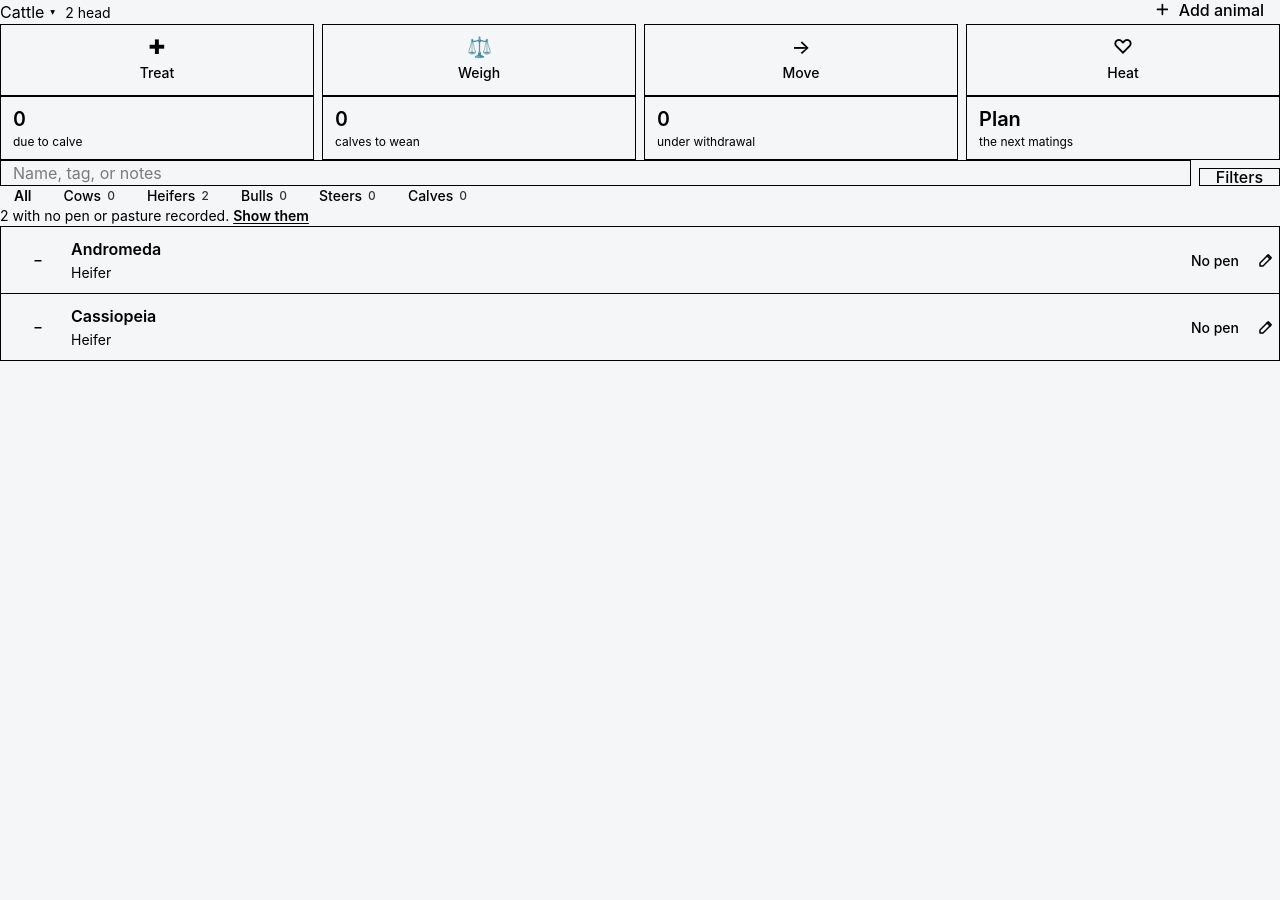
Test case: the breed filter › keeps saying what is on once the filters are closed
Click the button "Filters": (1239, 177) 1199,168 -> 1279,186
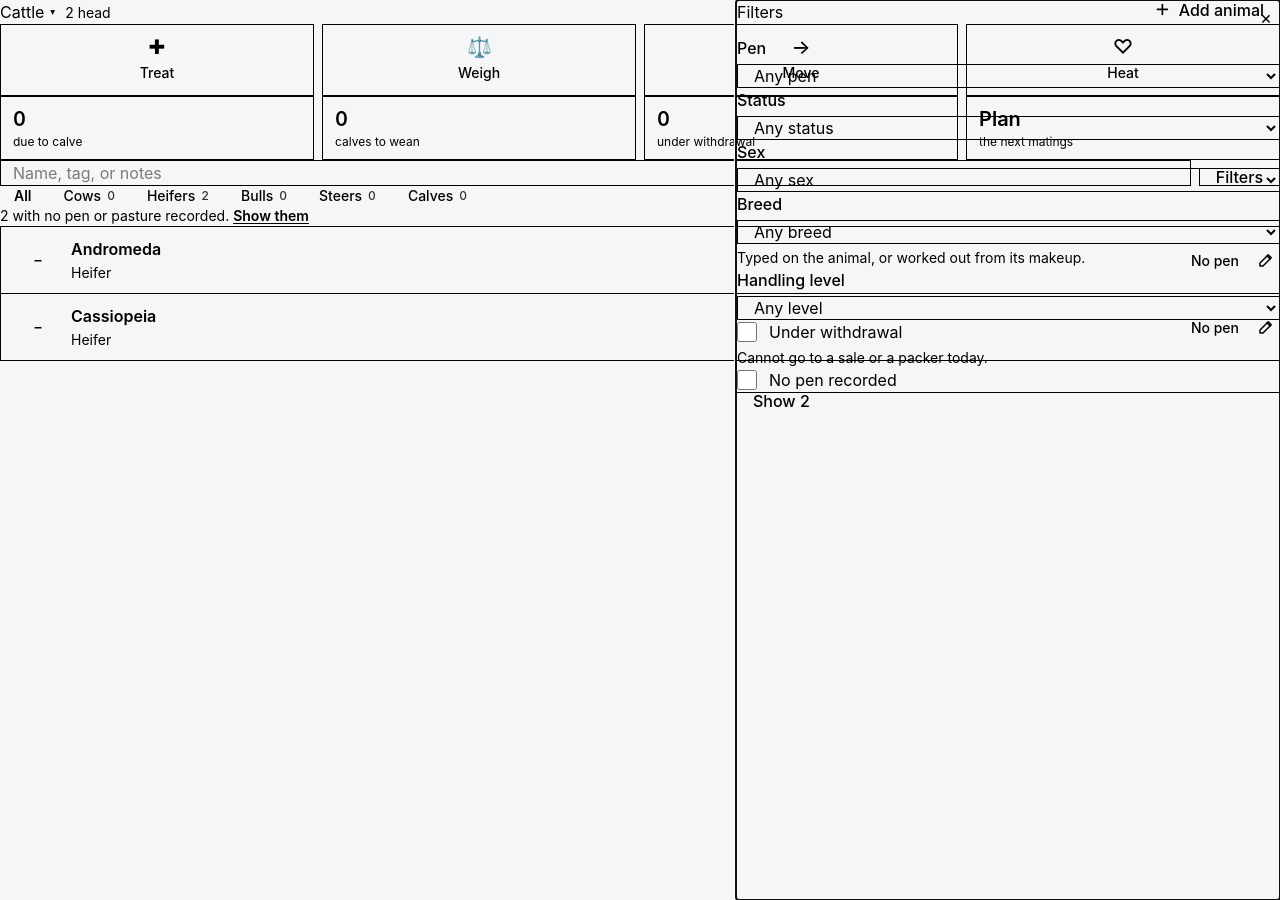
Select "Maine-Anjou" in the dropdown labelled "Breed": (1008, 232) 737,220 -> 1279,244
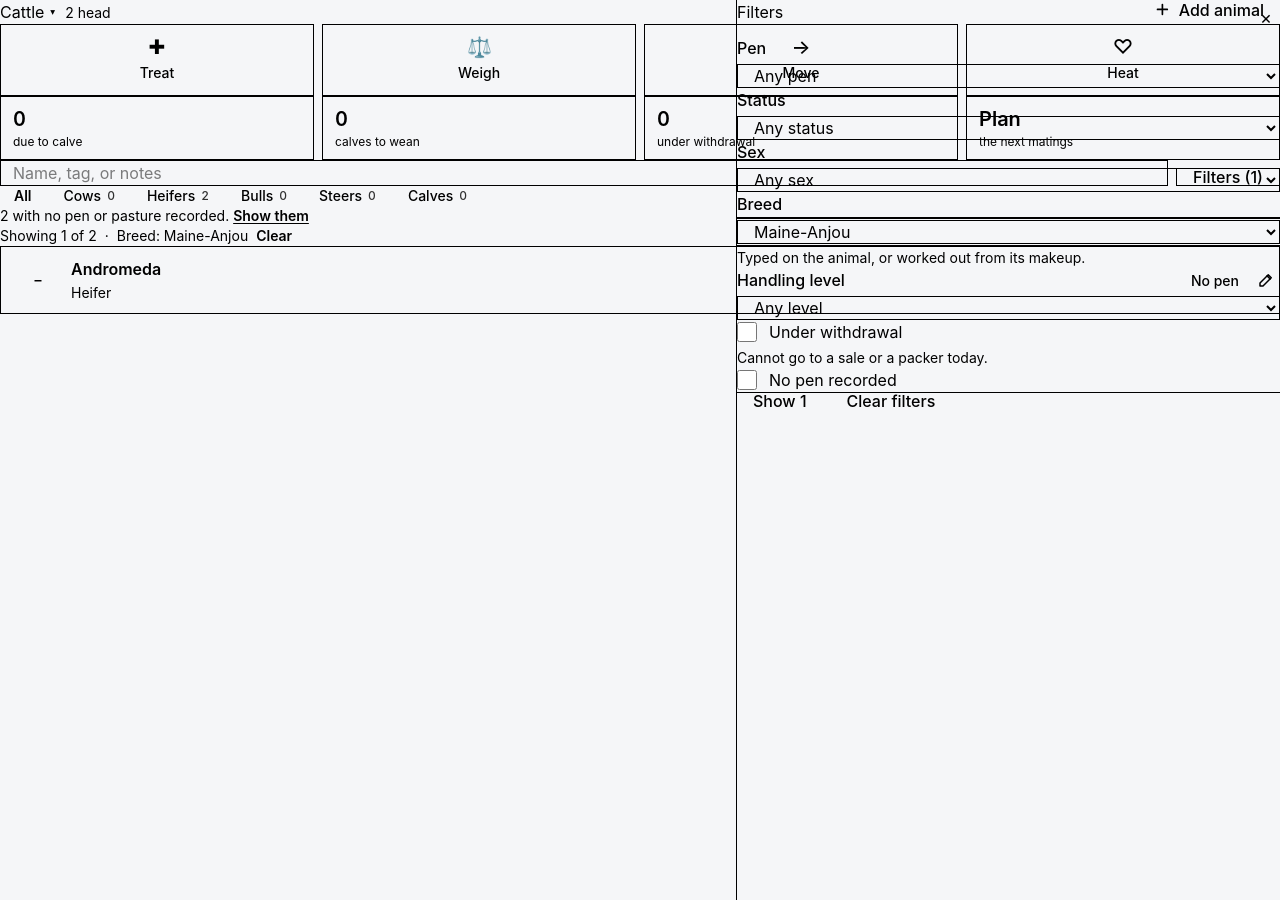
Click the button "Show 1": (780, 401) 737,393 -> 822,409
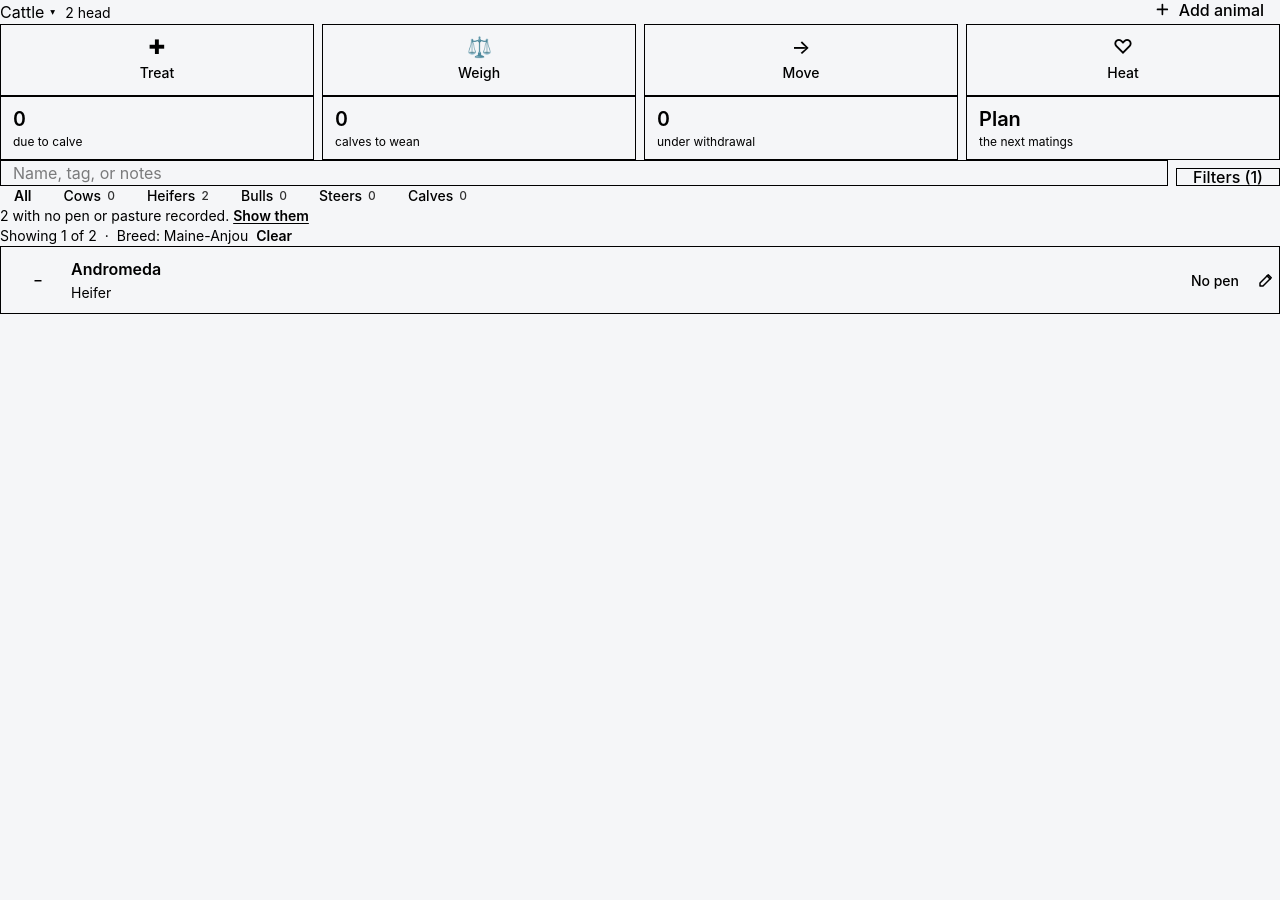
expect the text "Breed: Maine-Anjou" is shown: met, box 117,226 -> 248,246
expect the button "Filters (1)" is shown: met, box 1176,168 -> 1279,186
Click the button "Clear": (274, 236) 256,226 -> 292,246
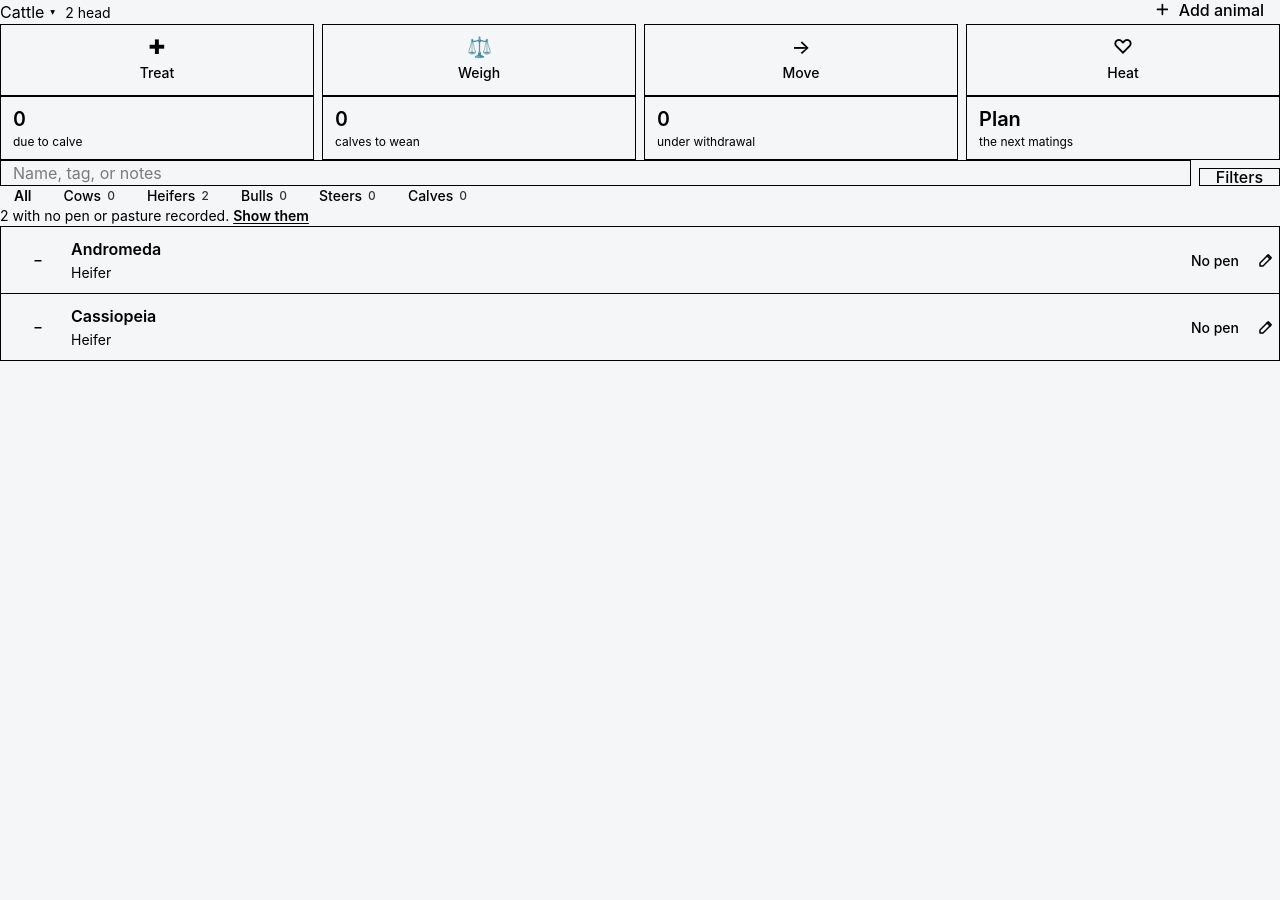
expect the link "– Cassiopeia Heifer No pen" is shown: met, box 1,294 -> 1257,360
